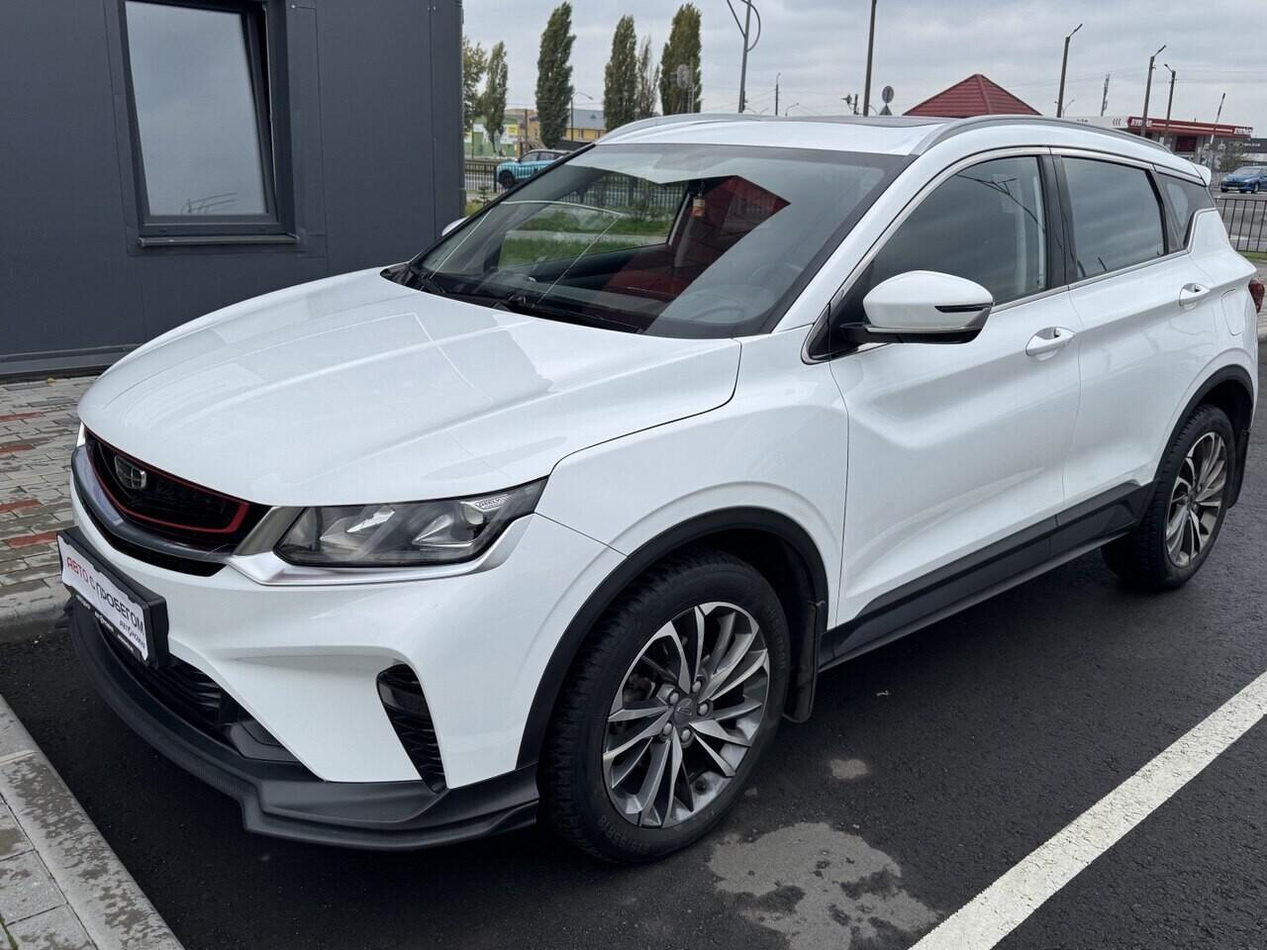Coolray_2019-2023: (47, 110, 1262, 861)
